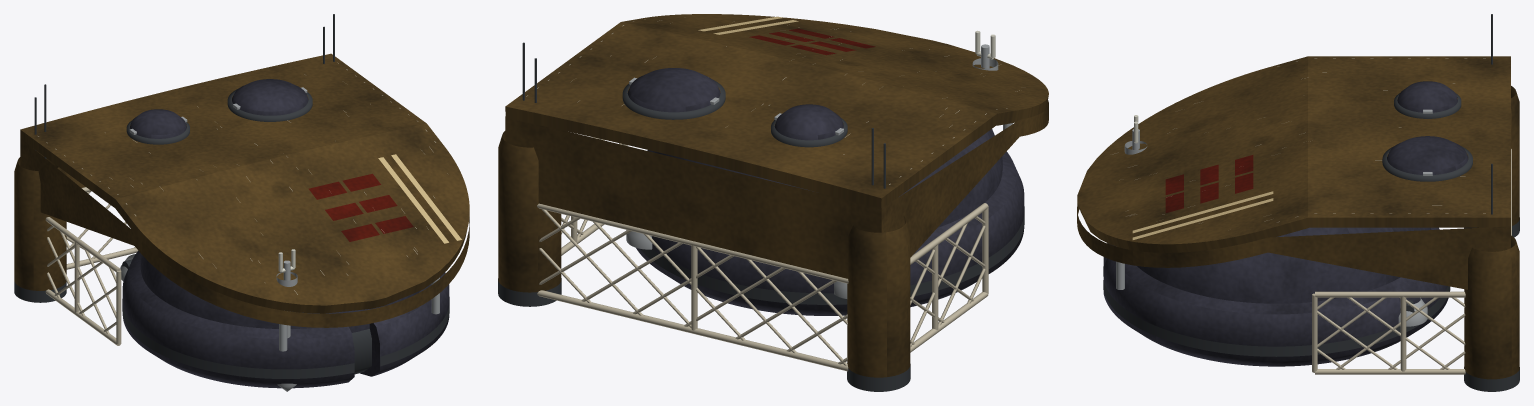
The picture shows the model from 3 angles, left to right: view 1: azimuth 30°, elevation 25°; view 2: azimuth 150°, elevation 25°; view 3: azimuth 270°, elevation 25°; orthographic projection. The views are drawn at different scales.
Parts seen in each view (by area): view 1: Rounded compound roof and nose, Exposed grey violet drilling drum, Rear cylindrical foundation pier, Upper shell edge skirt 42, Lower drum dark belt, Rounded internal survey machine bell, Hatch 1 shallow domed lid, Hatch 0 shallow domed lid, Front lower drum recessed radial slot, Hatch 1 recessed flange, Pale nose roof stripe, Pale nose roof stripe.001 (+11 smaller); view 2: Rounded compound roof and nose, Upper shell edge skirt 0, Exposed grey violet drilling drum, Rear cylindrical foundation pier, Rear cylindrical foundation pier.001, Upper shell edge skirt 42, Hatch 1 shallow domed lid, Lower drum dark belt, Rear open bracing frame, Rounded internal survey machine bell, Hatch 0 shallow domed lid, Rear open bracing frame.001 (+14 smaller); view 3: Rounded compound roof and nose, Exposed grey violet drilling drum, Upper shell edge skirt 1, Rounded internal survey machine bell, Rear cylindrical foundation pier.001, Lower drum dark belt, Hatch 1 shallow domed lid, Hatch 0 shallow domed lid, Rear cylindrical foundation pier, Side open bracing 1 frame.001, Side open bracing 1 frame, Hatch 1 recessed flange (+6 smaller).
Part boxes in pixels (x1,y1,x2,y2): Rounded compound roof and nose: (20, 53, 469, 313); Exposed grey violet drilling drum: (122, 251, 449, 388); Rear cylindrical foundation pier: (14, 157, 66, 290); Upper shell edge skirt 42: (20, 138, 134, 245); Lower drum dark belt: (122, 297, 449, 378); Rounded internal survey machine bell: (140, 254, 420, 332); Hatch 1 shallow domed lid: (232, 79, 308, 115); Hatch 0 shallow domed lid: (130, 109, 186, 138); Front lower drum recessed radial slot: (352, 328, 371, 374); Hatch 1 recessed flange: (227, 89, 312, 121); Pale nose roof stripe: (378, 157, 448, 243); Pale nose roof stripe.001: (391, 154, 461, 240); Rounded compound roof and nose: (505, 14, 1048, 209); Upper shell edge skirt 0: (505, 116, 881, 278); Exposed grey violet drilling drum: (636, 150, 1024, 315); Rear cylindrical foundation pier: (847, 216, 910, 377); Rear cylindrical foundation pier.001: (498, 131, 561, 292); Upper shell edge skirt 42: (881, 120, 1019, 257); Hatch 1 shallow domed lid: (627, 68, 720, 112); Lower drum dark belt: (640, 206, 1024, 304); Rear open bracing frame: (537, 290, 848, 371); Rounded internal survey machine bell: (652, 129, 1002, 227); Hatch 0 shallow domed lid: (774, 104, 843, 140); Rear open bracing frame.001: (537, 203, 848, 283); Rounded compound roof and nose: (1077, 56, 1510, 252); Exposed grey violet drilling drum: (1103, 227, 1450, 366); Upper shell edge skirt 1: (1268, 226, 1510, 289); Rounded internal survey machine bell: (1137, 227, 1431, 303); Rear cylindrical foundation pier.001: (1464, 235, 1519, 379); Lower drum dark belt: (1103, 266, 1450, 356); Hatch 1 shallow domed lid: (1387, 136, 1468, 174); Hatch 0 shallow domed lid: (1397, 81, 1457, 112); Rear cylindrical foundation pier: (1477, 86, 1519, 227); Side open bracing 1 frame.001: (1315, 291, 1465, 297); Side open bracing 1 frame: (1315, 369, 1465, 374); Hatch 1 recessed flange: (1382, 146, 1472, 181).
Bounding box in the file's own units: 2.36 × 1.39 × 2.55.
9 materials, 3 textured.
